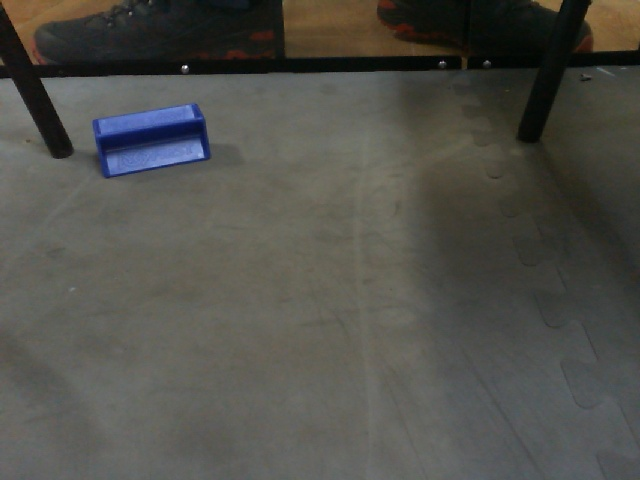BlueSample: (89, 98, 213, 180)
